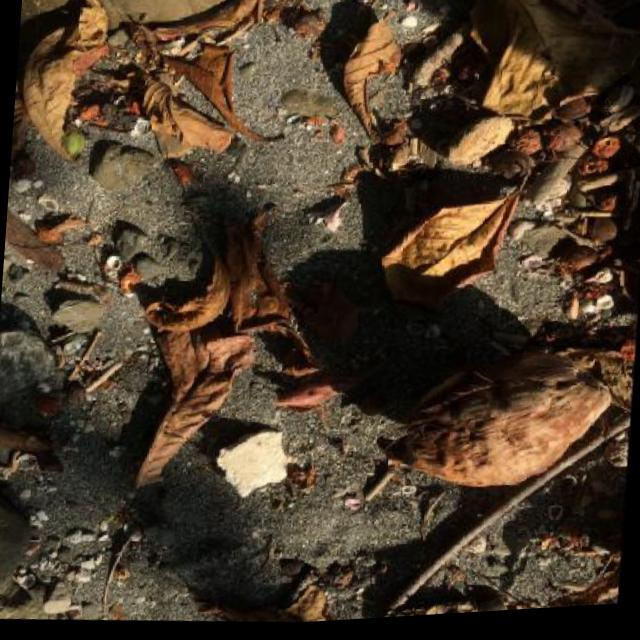foam: (214, 423, 292, 501)
